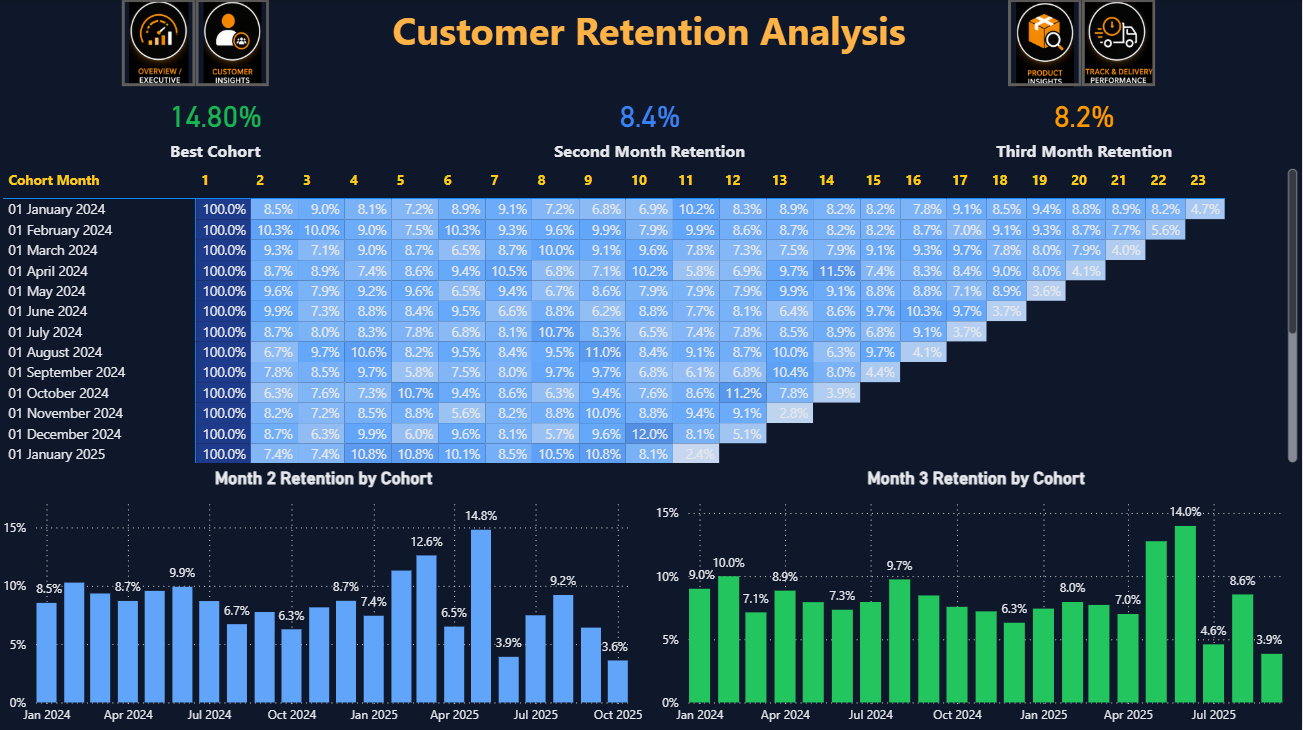

What the dashboard file says about the page in this screenshot:
{"tool":"powerbi","page":{"name":"COHORT RETENTION","canvas":[1280,720],"ordinal":3},"visuals":[{"type":"textbox","box":[376.4,0,524.8,77.2],"z":0},{"type":"card","fields":{"Values":["All Measures Table.Best Cohort"]},"box":[0,86.9,427.1,74.8],"z":1000},{"type":"card","fields":{"Values":["All Measures Table.Second Month Retention"]},"box":[427.1,86.9,425.9,74.8],"z":2000},{"type":"card","fields":{"Values":["All Measures Table.Third Month Retention"]},"box":[853,86.9,427.1,74.8],"z":3000},{"type":"pivotTable","fields":{"Columns":["cohort_analysis.cohort_index"],"Rows":["cohort_analysis.cohort_month"],"Values":["Sum(cohort_analysis.retention_rate_fixed)"]},"box":[0,161.7,1280,298],"z":4000},{"type":"columnChart","title":"Month 2 Retention by Cohort ","fields":{"Category":["cohort_analysis.cohort_month"],"Y":["All Measures Table.Second Month Retention"]},"box":[0,459.7,639.4,260.6],"z":5000},{"type":"columnChart","title":"Month 3 Retention by Cohort ","fields":{"Category":["cohort_analysis.cohort_month"],"Y":["All Measures Table.Third Month Retention"]},"box":[640.6,459.7,639.4,260.6],"z":6000},{"type":"image","box":[121.9,0,72.4,85.7],"z":7000},{"type":"image","box":[194.2,0,72.4,85.7],"z":8000},{"type":"image","box":[991.7,1.2,72.4,85.7],"z":9000},{"type":"image","box":[1064.1,0,72,85.7],"z":10000},{"type":"actionButton","box":[121.9,0,72.4,85.7],"z":11000},{"type":"actionButton","box":[194.2,0,72.4,85.7],"z":12000},{"type":"actionButton","box":[991.7,0,72.4,85.7],"z":13000},{"type":"actionButton","box":[1064.1,0,72.4,85.7],"z":14000}]}

Visuals, with their boxes in screenshot pixels (x1, y1, x2, y2), scaled from the page's 1280x720 canvas onto the 1303x730 screenshot:
textbox: bbox=(383, 0, 917, 78)
card - All Measures Table.Best Cohort: bbox=(0, 88, 435, 164)
card - All Measures Table.Second Month Retention: bbox=(435, 88, 868, 164)
card - All Measures Table.Third Month Retention: bbox=(868, 88, 1302, 164)
pivotTable - cohort_analysis.cohort_index x cohort_analysis.cohort_month: bbox=(0, 164, 1302, 466)
"Month 2 Retention by Cohort " columnChart: bbox=(0, 466, 651, 729)
"Month 3 Retention by Cohort " columnChart: bbox=(652, 466, 1302, 729)
image: bbox=(124, 0, 198, 87)
image: bbox=(198, 0, 271, 87)
image: bbox=(1010, 1, 1083, 88)
image: bbox=(1083, 0, 1157, 87)
actionButton: bbox=(124, 0, 198, 87)
actionButton: bbox=(198, 0, 271, 87)
actionButton: bbox=(1010, 0, 1083, 87)
actionButton: bbox=(1083, 0, 1157, 87)
